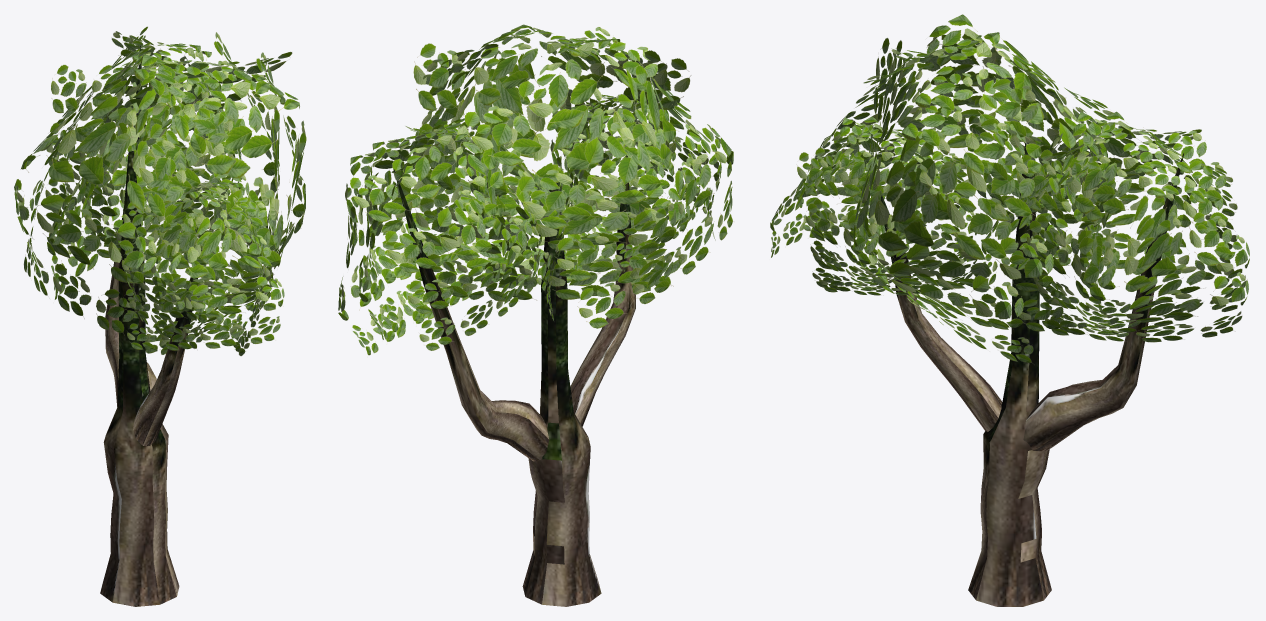
The model's file is tree.glb.
3 renders of one model, left to right at view 1: azimuth 30°, elevation 25°; view 2: azimuth 150°, elevation 25°; view 3: azimuth 270°, elevation 25°, orthographic. The views are drawn at different scales.
Parts seen in each view (by area): view 1: Cilindro.002, image-removebg-preview.007, image-removebg-preview.003, image-removebg-preview.004, image-removebg-preview.005, image-removebg-preview.006, image-removebg-preview.011, image-removebg-preview.002, image-removebg-preview.010, image-removebg-preview.001, image-removebg-preview.009, image-removebg-preview (+1 smaller); view 2: Cilindro.002, image-removebg-preview.007, image-removebg-preview.006, image-removebg-preview.010, image-removebg-preview.005, image-removebg-preview.004, image-removebg-preview.008, image-removebg-preview.011, image-removebg-preview.009, image-removebg-preview.002, image-removebg-preview.003, image-removebg-preview.001 (+1 smaller); view 3: Cilindro.002, image-removebg-preview.004, image-removebg-preview.005, image-removebg-preview.008, image-removebg-preview.009, image-removebg-preview.006, image-removebg-preview.007, image-removebg-preview.001, image-removebg-preview.010, image-removebg-preview, image-removebg-preview.011, image-removebg-preview.003 (+1 smaller).
Part boxes in pixels (x1,y1,x2,y2): Cilindro.002: (100,45,202,606); image-removebg-preview.007: (14,47,234,335); image-removebg-preview.003: (121,193,284,350); image-removebg-preview.004: (145,52,306,353); image-removebg-preview.005: (137,32,279,354); image-removebg-preview.006: (47,51,292,299); image-removebg-preview.011: (45,58,249,257); image-removebg-preview.002: (124,169,250,348); image-removebg-preview.010: (51,26,209,247); image-removebg-preview.001: (153,174,268,354); image-removebg-preview.009: (96,31,235,245); image-removebg-preview: (172,183,273,355); Cilindro.002: (394,155,635,606); image-removebg-preview.007: (464,27,734,328); image-removebg-preview.006: (412,35,689,301); image-removebg-preview.010: (350,122,542,350); image-removebg-preview.005: (395,24,691,284); image-removebg-preview.004: (396,34,669,286); image-removebg-preview.008: (338,122,473,355); image-removebg-preview.011: (405,118,564,320); image-removebg-preview.009: (359,121,480,339); image-removebg-preview.002: (561,98,701,267); image-removebg-preview.003: (601,94,721,240); image-removebg-preview.001: (565,99,638,251); Cilindro.002: (880,142,1183,606); image-removebg-preview.004: (853,40,1033,362); image-removebg-preview.005: (863,38,1064,331); image-removebg-preview.008: (1032,149,1248,342); image-removebg-preview.009: (1016,130,1249,335); image-removebg-preview.006: (891,32,1114,314); image-removebg-preview.007: (831,14,1116,228); image-removebg-preview.001: (796,129,976,292); image-removebg-preview.010: (1026,111,1237,282); image-removebg-preview: (809,147,977,295); image-removebg-preview.011: (981,112,1201,284); image-removebg-preview.003: (770,117,935,257).
Bounding box in the file's own units: 3.07 × 5.63 × 4.4.
3 materials, 3 textured.
